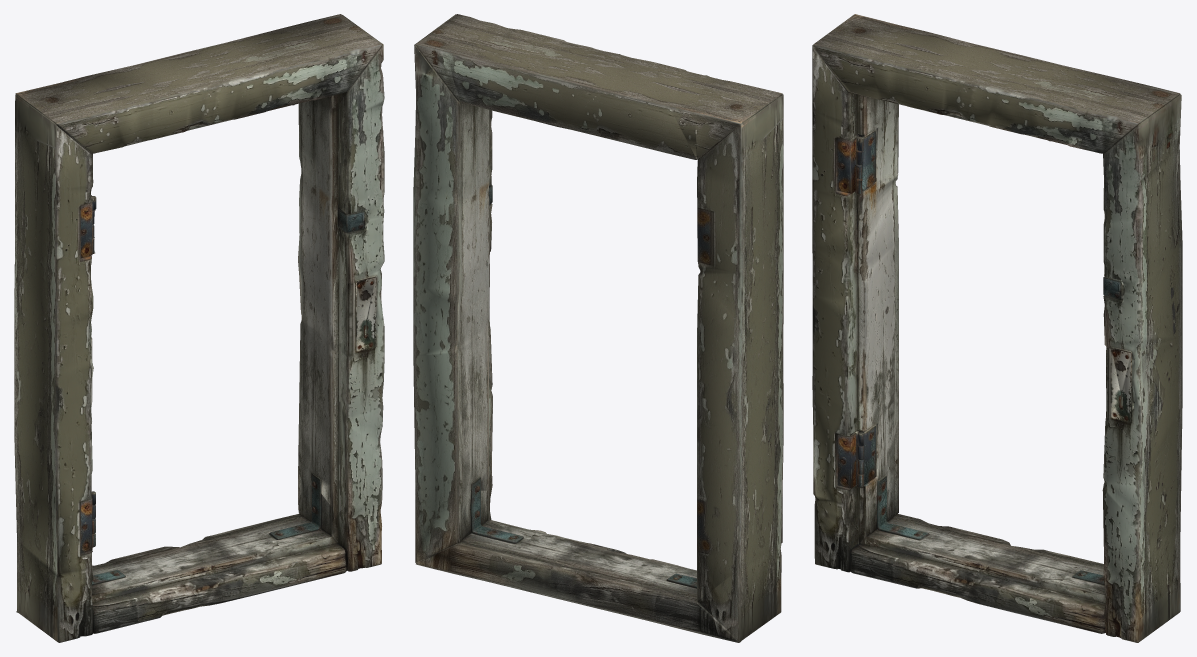
Rendered from silo81_plywood_door_frame.glb.
The picture shows the model from 3 angles, left to right: view 1: azimuth 30°, elevation 25°; view 2: azimuth 150°, elevation 25°; view 3: azimuth 330°, elevation 25°; orthographic projection.
Size of the model in its own units: 0.6299 by 0.9526 by 0.1436.
Materials: 1 (1 with a texture image).
